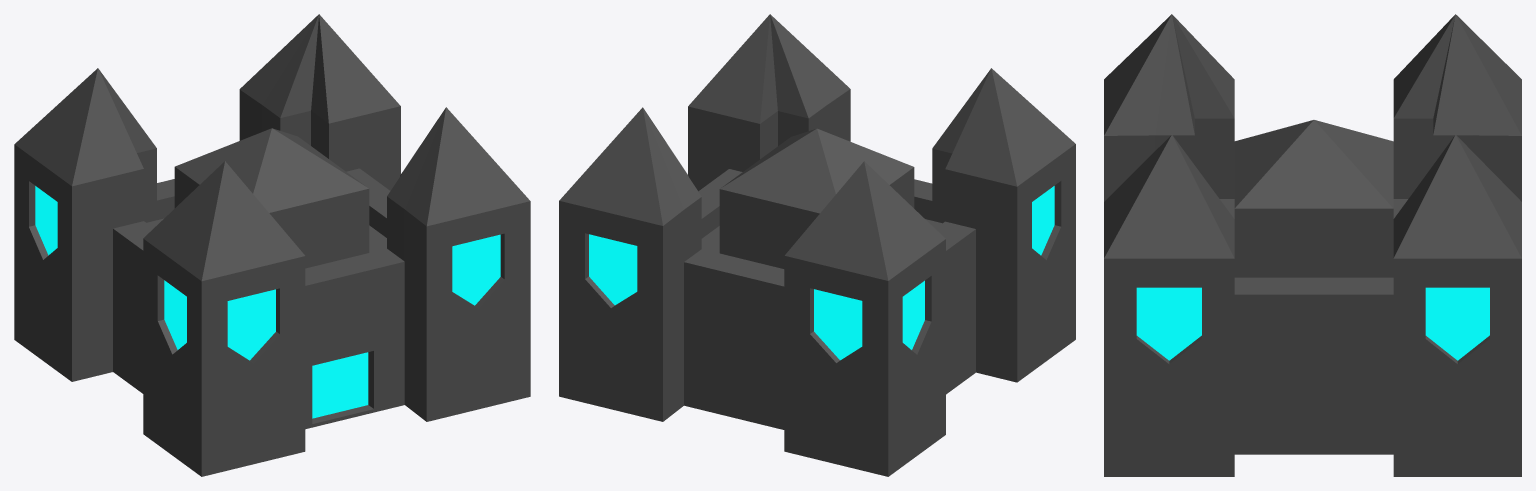
File: Dark Castle.glb
3 views of the same model, side by side, from view 1: azimuth 30°, elevation 25°; view 2: azimuth 150°, elevation 25°; view 3: azimuth 270°, elevation 25° (orthographic). The views are drawn at different scales.
Parts seen in each view (by area): view 1: Dark Castle; view 2: Dark Castle; view 3: Dark Castle.
Part boxes in pixels (x1,y1,x2,y2): Dark Castle: (14,14,530,476); Dark Castle: (559,14,1075,476); Dark Castle: (1104,14,1521,476).
Size of the model in its own units: 1.51 by 1.23 by 1.48.
